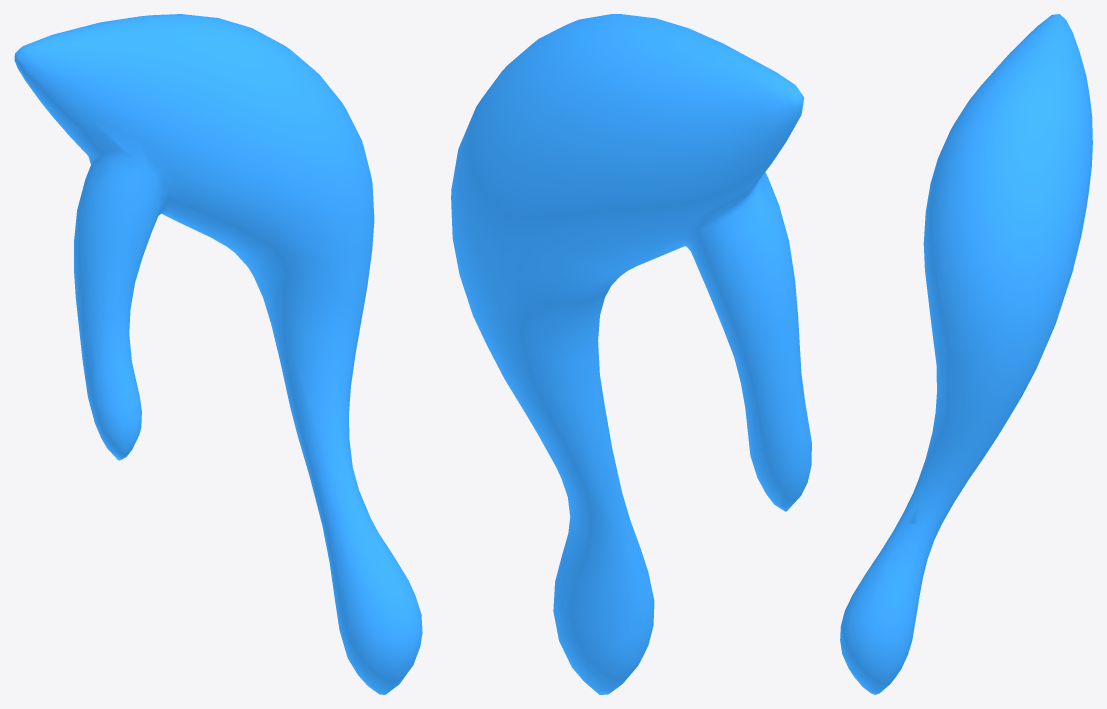
File: Sap1_3a44916e.fbx
3 views of the same model, side by side, from view 1: azimuth 30°, elevation 25°; view 2: azimuth 150°, elevation 25°; view 3: azimuth 270°, elevation 25° (orthographic). The views are drawn at different scales.
Visible parts, largest first — view 1: BlueSap_A_Short; view 2: BlueSap_A_Short; view 3: BlueSap_A_Short.
Boxes of the visible parts, x1,y1,x2,y2 form: BlueSap_A_Short: (14,14,422,694); BlueSap_A_Short: (451,14,811,694); BlueSap_A_Short: (840,14,1092,694).
Size of the model in its own units: 47.55 by 93.09 by 37.07.
